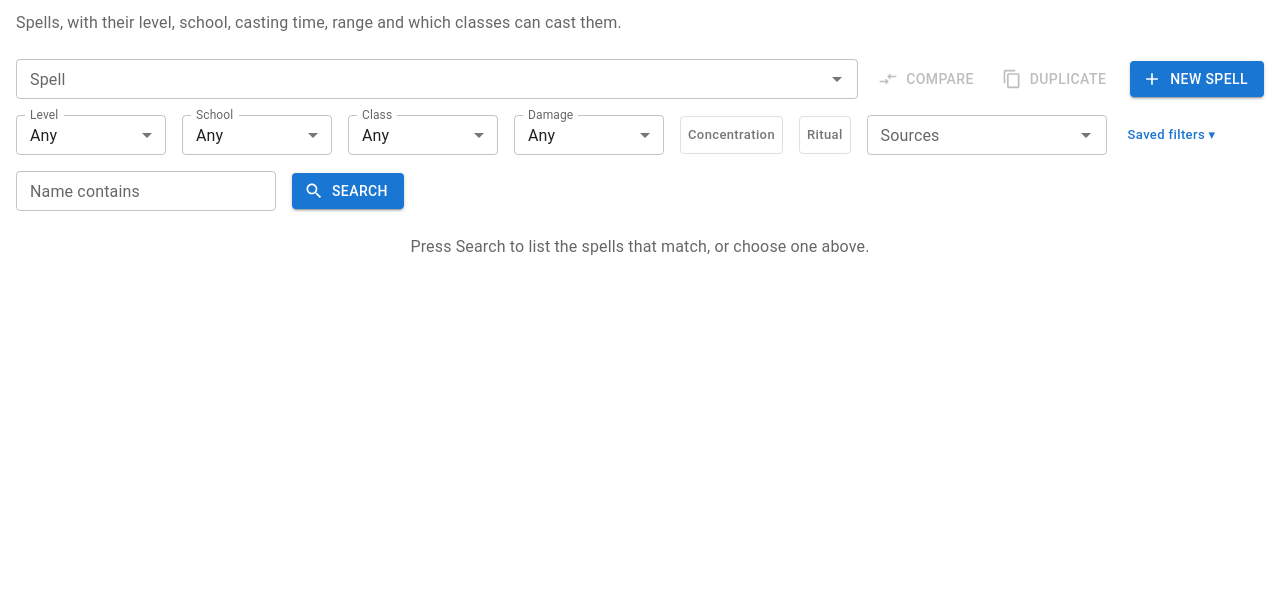
reading a spell › says what a reaction is taken in response to, and shows a ritual and concentration
Type "Shield" into the dropdown labelled "Spell" at (421,79), box top-left (22, 65), bottom-right (819, 93)
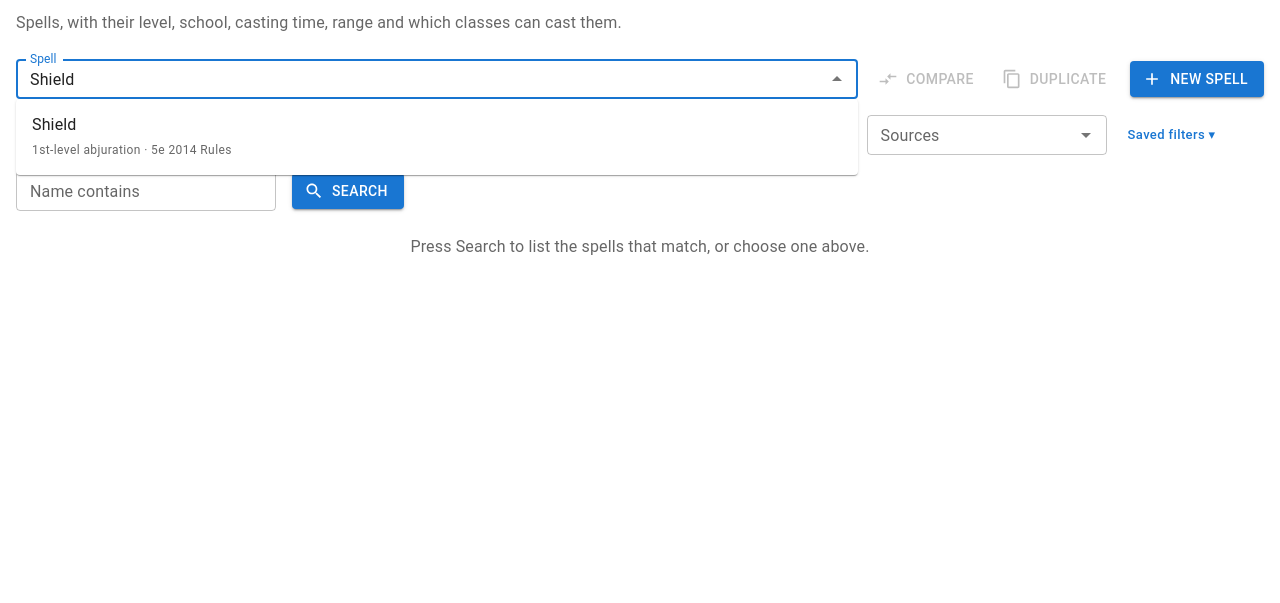
Now the option "Shield 1st-level abjuration · 5e 2014 Rules" is shown
Click the option "Shield 1st-level abjuration · 5e 2014 Rules" at (54,124), box top-left (32, 115), bottom-right (232, 157)
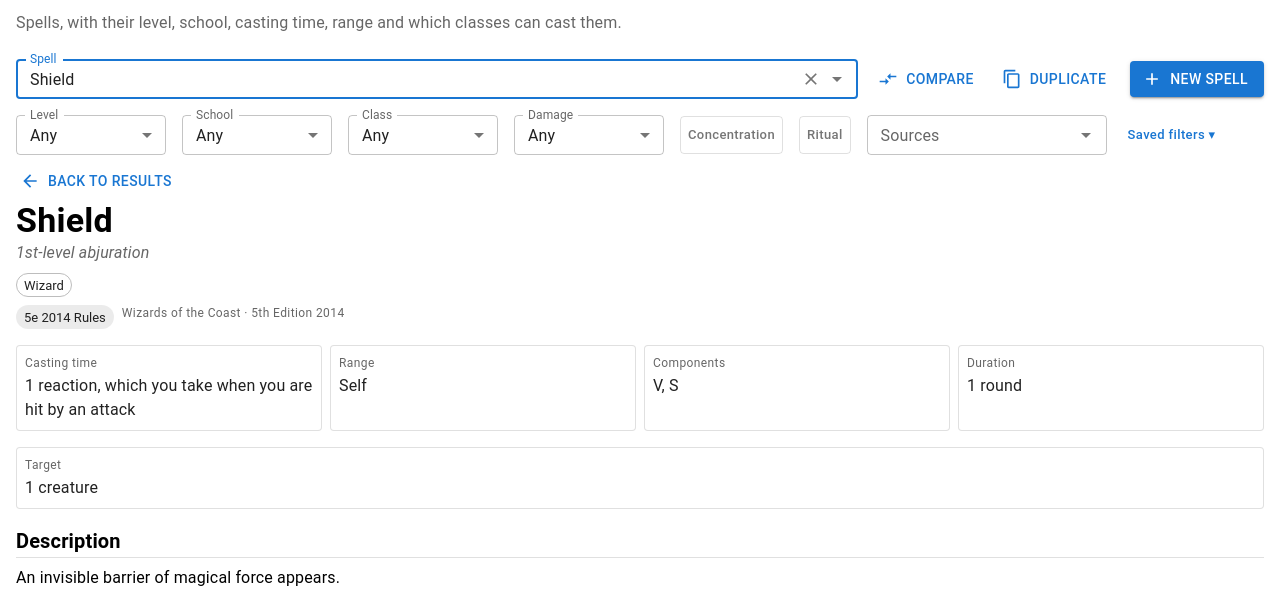
Now the text "1 reaction, which you take when you are hit by an attack" is shown, box top-left (25, 374), bottom-right (313, 422)
Now the text "Self" is shown, box top-left (339, 376), bottom-right (367, 395)
Replace the text in the dropdown labelled "Spell" with "Detect Magic" at (408,79), box top-left (22, 65), bottom-right (793, 93)
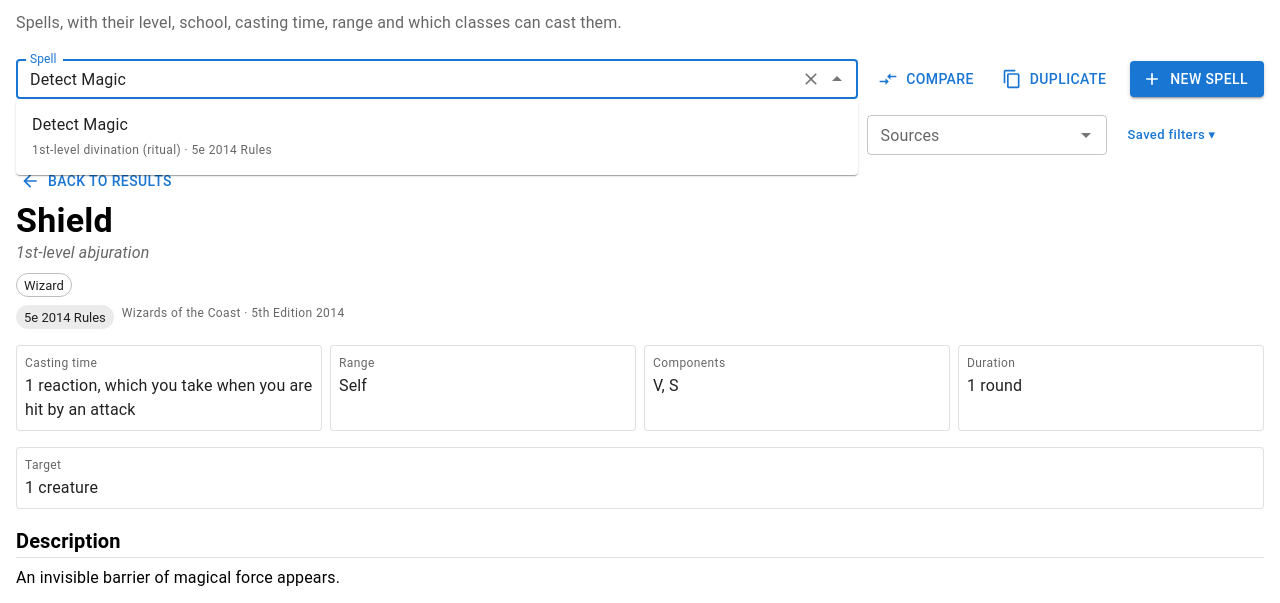
Now the option "Detect Magic 1st-level divination (ritual) · 5e 2014 Rules" is shown
Click the option "Detect Magic 1st-level divination (ritual) · 5e 2014 Rules" at (80,124), box top-left (32, 115), bottom-right (272, 157)
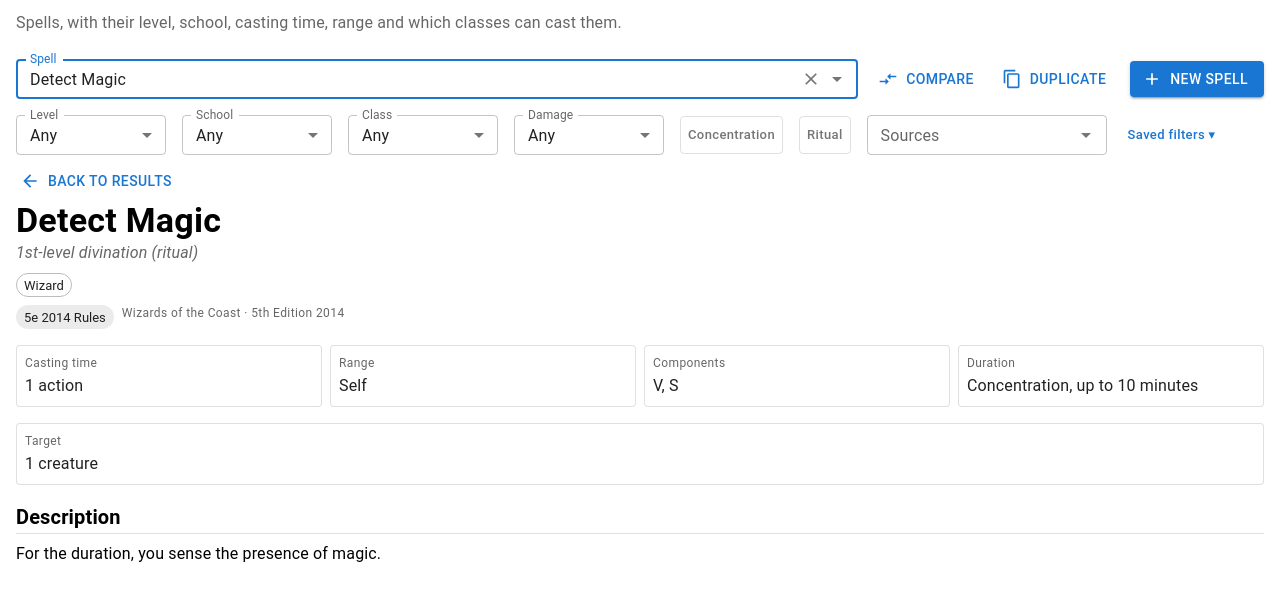
Now the text "1st-level divination (ritual)" is shown, box top-left (16, 244), bottom-right (198, 262)
Now the text "Concentration, up to 10 minutes" is shown, box top-left (967, 376), bottom-right (1198, 395)
